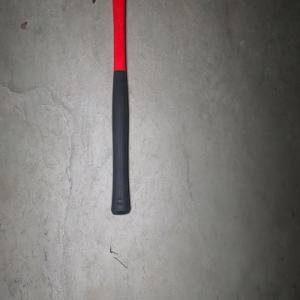Hammer: (91, 0, 149, 216)
